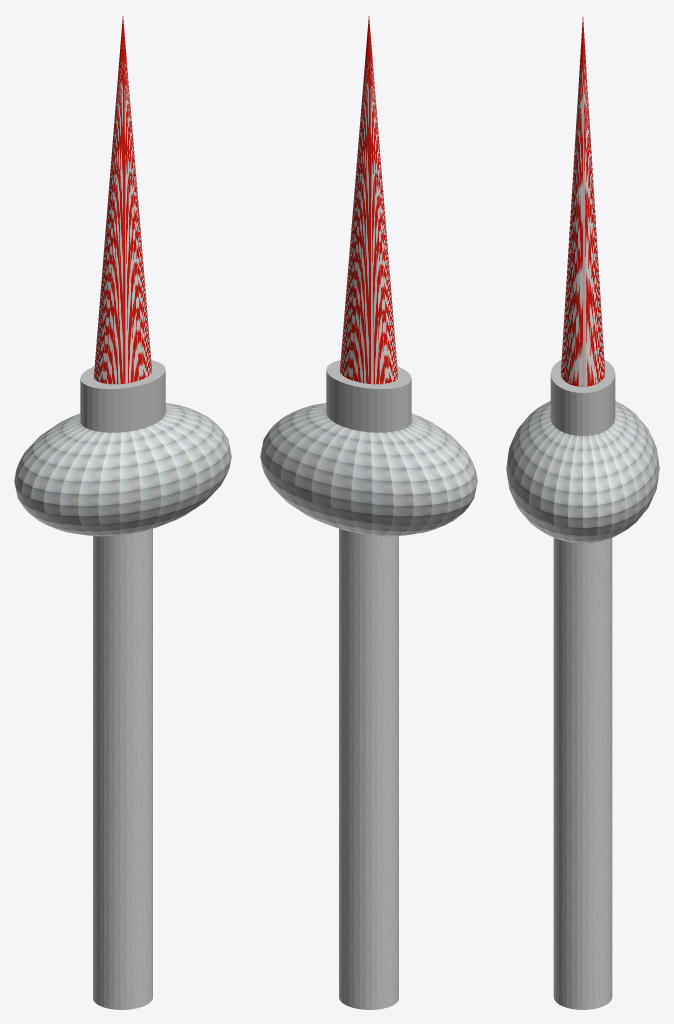
File: test_tower.obj
3 renders of one model, left to right at view 1: azimuth 30°, elevation 25°; view 2: azimuth 150°, elevation 25°; view 3: azimuth 270°, elevation 25°, orthographic.
Parts seen in each view (by area): view 1: Cylinder, Sphere, Cone, Cylinder.001; view 2: Cylinder, Sphere, Cone, Cylinder.001; view 3: Cylinder, Sphere, Cone, Cylinder.001.
Part boxes in pixels (bbox=[...]): Cylinder: bbox=[93, 528, 152, 1009]; Sphere: bbox=[14, 403, 231, 536]; Cone: bbox=[94, 16, 151, 384]; Cylinder.001: bbox=[80, 360, 165, 432]; Cylinder: bbox=[339, 528, 398, 1009]; Sphere: bbox=[260, 403, 477, 536]; Cone: bbox=[340, 16, 397, 384]; Cylinder.001: bbox=[326, 360, 411, 432]; Cylinder: bbox=[553, 538, 612, 1009]; Sphere: bbox=[506, 401, 659, 543]; Cone: bbox=[560, 17, 605, 386]; Cylinder.001: bbox=[550, 359, 615, 435].
Size of the model in its own units: 17.48 by 80.67 by 11.41.
